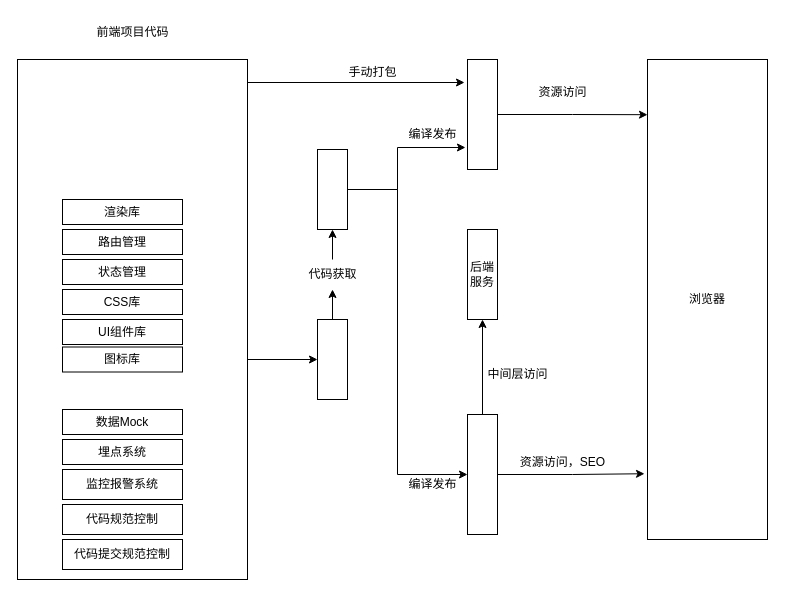
The diagram is 785 pixels wide and 597 high, and some of its shapes have lost their labels. The centre of each missing label's shape, as x and y in pixels:
"node中间层" goes at point (482, 474).
"代码仓库" goes at point (332, 359).
"自动发布" goes at point (332, 189).
"静态资源服务" goes at point (482, 114).
